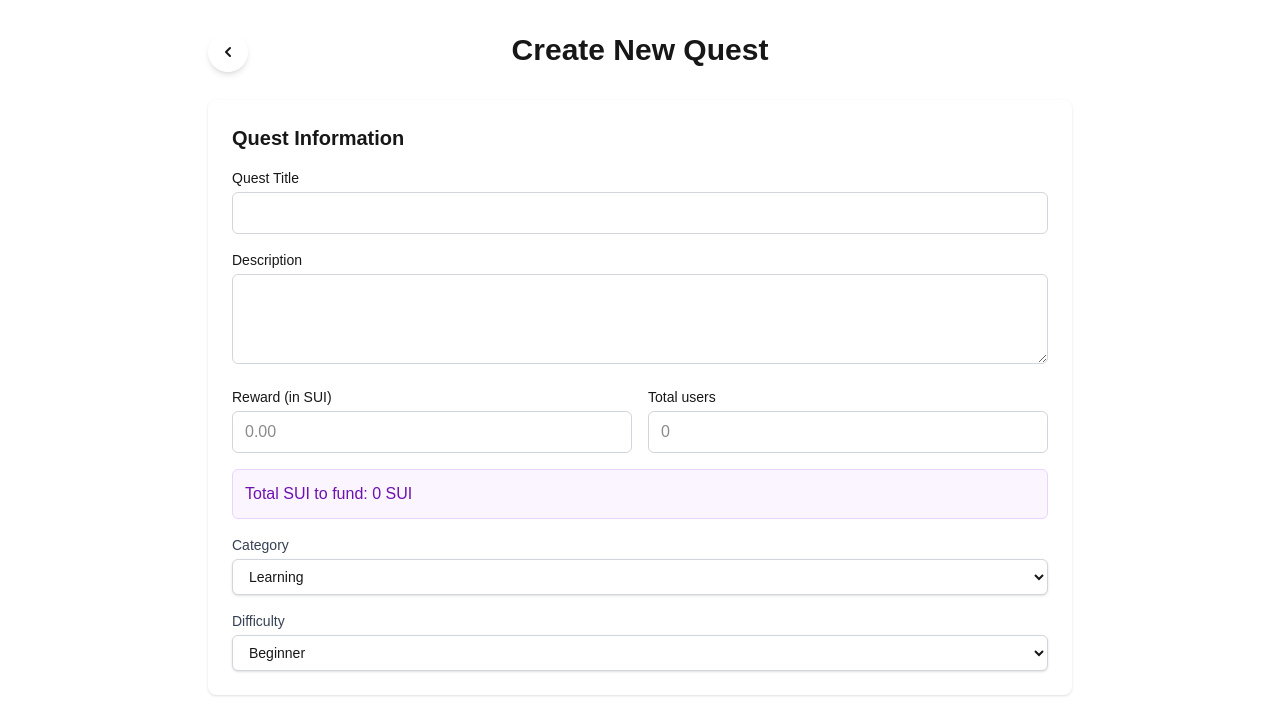
CreateQuestPage › shows confirmation dialog when back button is clicked with changes
Note: Fill out a field to trigger form change
Step 1. Type "Test Quest" into the field labelled "Quest Title" → (640, 213), box [232,192,1048,234]
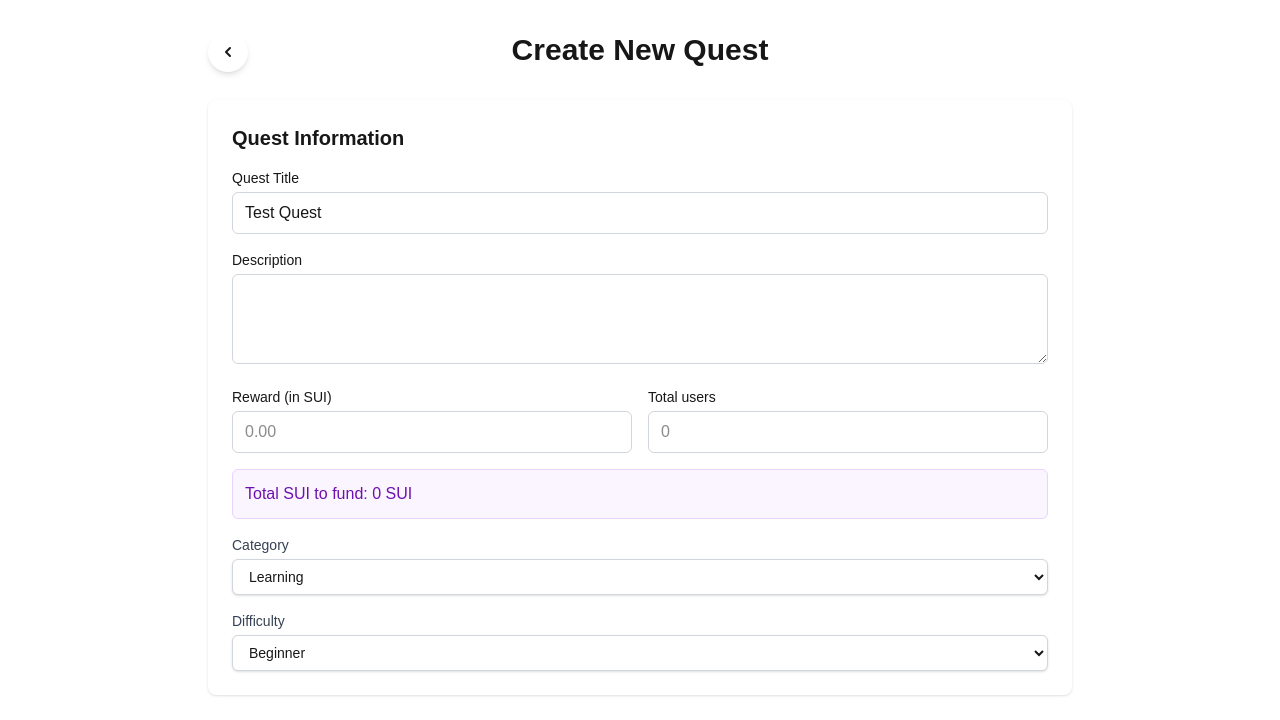
Note: Click the back button
Step 2. Click the button named "Go back" → (228, 52), box [208,32,248,72]
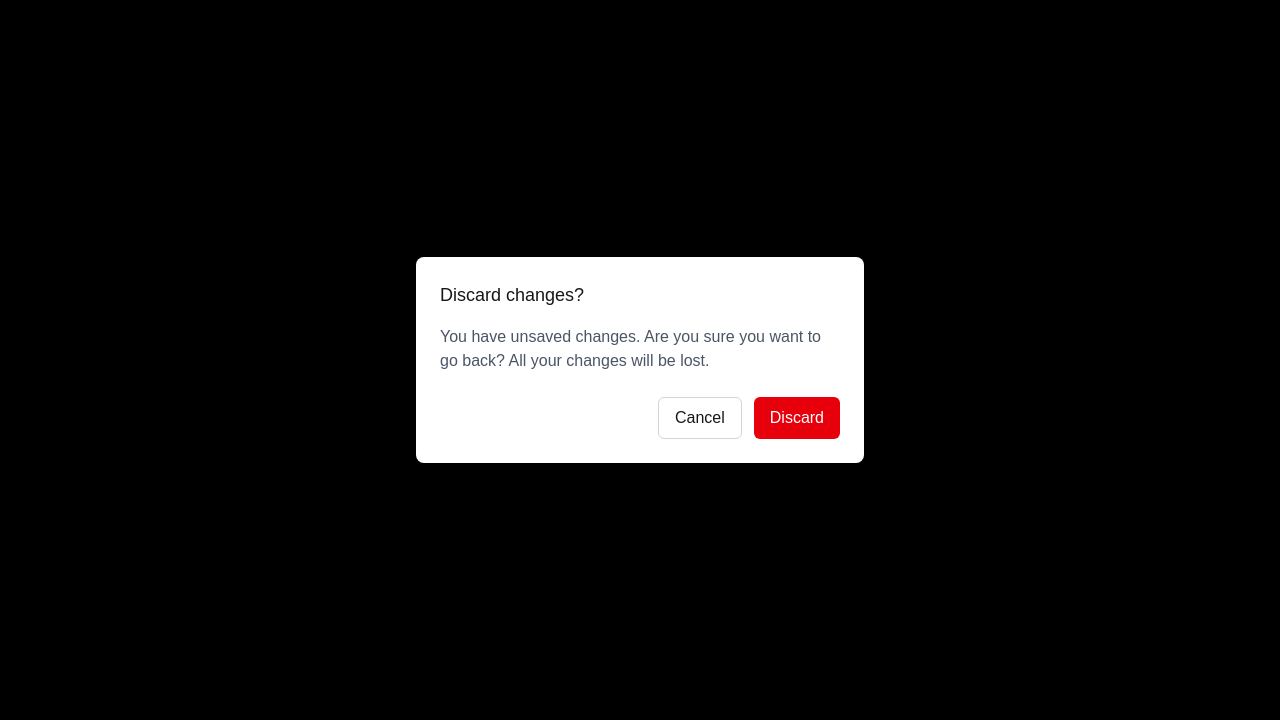
Now the heading "Discard changes?" is shown, box [440,285,584,305]
Now the text "You have unsaved changes. Are you sure you want to go back? All your changes will be lost." is shown, box [440,328,821,369]
Now the button "Cancel" is shown, box [658,397,742,439]
